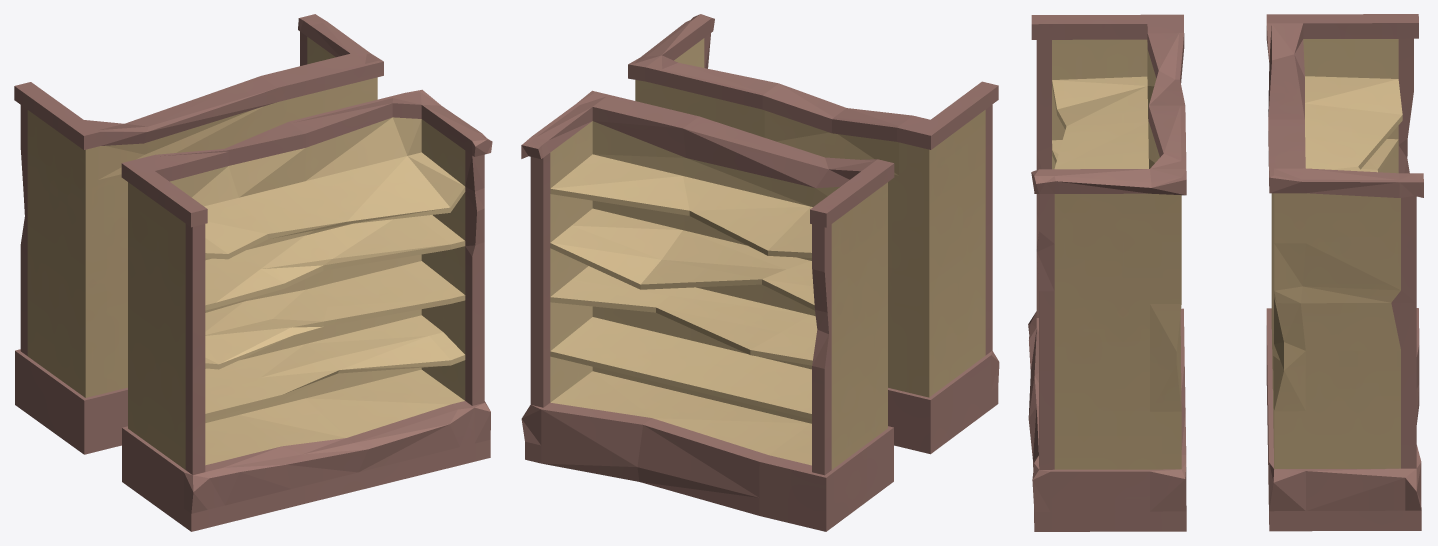
Rendered from shelf_3_B.obj.
3 views of the same model, side by side, from view 1: azimuth 30°, elevation 25°; view 2: azimuth 150°, elevation 25°; view 3: azimuth 270°, elevation 25° (orthographic). The views are drawn at different scales.
Parts seen in each view (by area): view 1: shelf_3_B_Mesh; view 2: shelf_3_B_Mesh; view 3: shelf_3_B_Mesh.
Part boxes in pixels (x1=…): shelf_3_B_Mesh: x1=14, y1=14, x2=492, y2=531; shelf_3_B_Mesh: x1=521, y1=14, x2=999, y2=531; shelf_3_B_Mesh: x1=1028, y1=14, x2=1423, y2=531.
Bounding box in the file's own units: 1.22 × 1.23 × 1.23.
